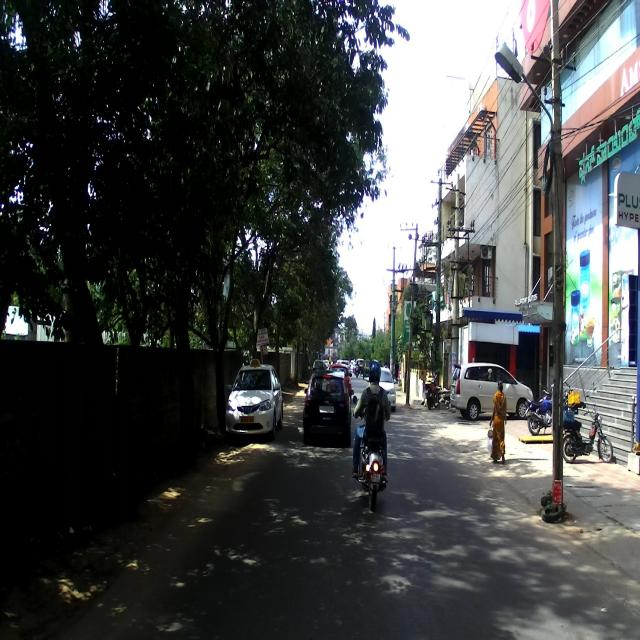Car_Ford: (304, 361, 352, 453)
Car_Toyota: (450, 359, 534, 420), (225, 356, 284, 439)
motorcycle_RoyalEnfield: (353, 395, 394, 511)
motorcycle_TVS: (562, 404, 615, 466)
